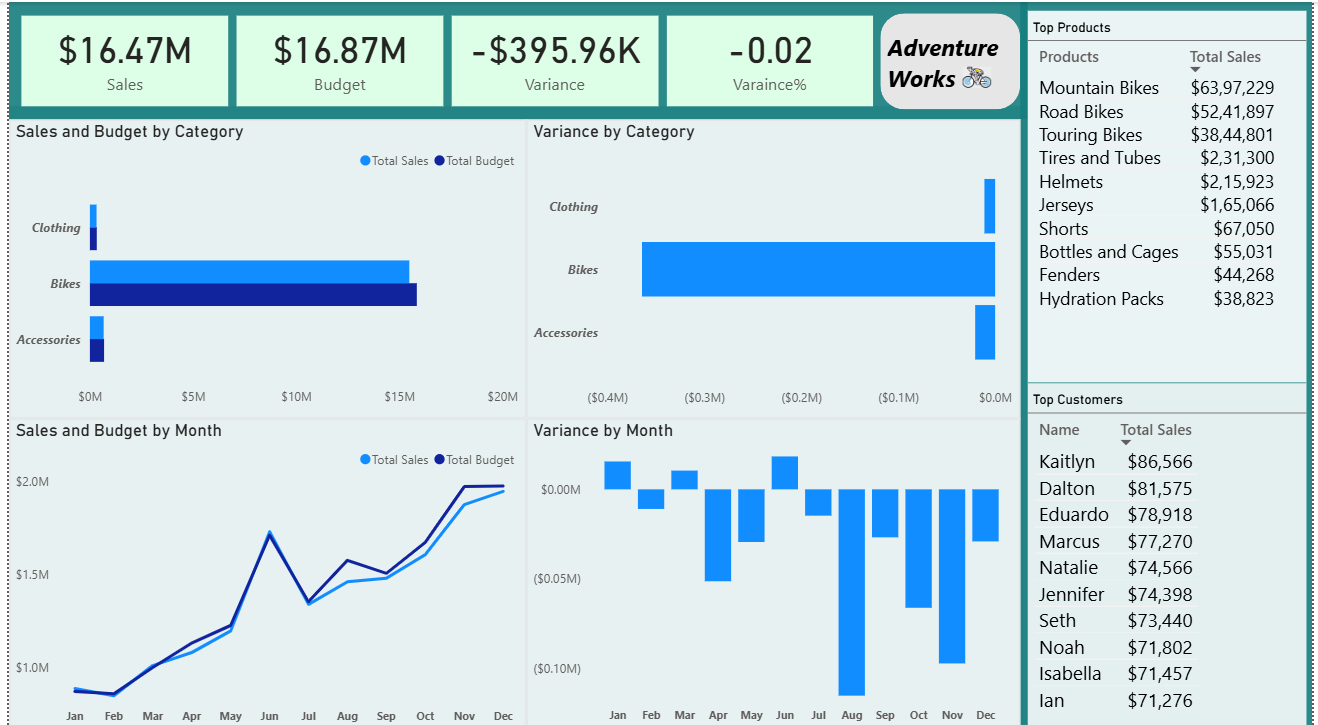

What the dashboard file says about the page in this screenshot:
{"tool":"powerbi","page":{"name":"Page 1","canvas":[1280,720],"ordinal":0},"visuals":[{"type":"shape","box":[0,0,1000,115.3],"z":0},{"type":"shape","box":[992.3,0,287.2,720.5],"z":500},{"type":"shape","box":[0,101.3,1000,619.2],"z":1000},{"type":"cardVisual","fields":{"Data":["Sales.Total Sales","Budget.Total Budget","Budget.Variance","Budget.Varaince%"]},"box":[7.4,8.6,847.9,99.4],"z":2000},{"type":"clusteredBarChart","title":"Sales and Budget by Category","fields":{"Y":["Sales.Total Sales","Budget.Total Budget"],"Category":["Product.Category","Budget.Subcategory"]},"box":[0,115.3,508,293.3],"z":3000},{"type":"clusteredBarChart","title":"Variance by Category","fields":{"Y":["Budget.Variance"],"Category":["Product.Category","Budget.Subcategory"]},"box":[507.7,115.4,484.6,293.6],"z":4000},{"type":"lineChart","title":"Sales and Budget by Month","fields":{"Y":["Sales.Total Sales","Budget.Total Budget"],"Category":["Calendar.Month"]},"box":[0,408.6,508,311.7],"z":5000},{"type":"clusteredColumnChart","title":"Variance by Month","fields":{"Category":["Calendar.Month"],"Y":["Budget.Variance"]},"box":[507.7,409,484.6,311.5],"z":6000},{"type":"tableEx","title":"Top Products","fields":{"Values":["Product.SubCategory","Sales.Total Sales"]},"box":[1000,8.6,273.6,364.4],"z":7000},{"type":"tableEx","title":"Top Customers","fields":{"Values":["Customer.FirstName","Sales.Total Sales"]},"box":[1000,374.2,273.6,338.7],"z":8000},{"type":"shape","box":[855.2,11,137.4,94.5],"z":9000},{"type":"image","box":[931.3,51.5,38,45.4],"z":10000}]}

Visuals, with their boxes in screenshot pixels (x1, y1, x2, y2), scaled from the page's 1280x720 canvas onto the 1318x725 screenshot:
shape: box=[0, 0, 1030, 116]
shape: box=[1022, 0, 1317, 724]
shape: box=[0, 102, 1030, 724]
cardVisual - Sales.Total Sales x Budget.Total Budget: box=[8, 9, 881, 109]
"Sales and Budget by Category" clusteredBarChart: box=[0, 116, 523, 411]
"Variance by Category" clusteredBarChart: box=[523, 116, 1022, 412]
"Sales and Budget by Month" lineChart: box=[0, 411, 523, 724]
"Variance by Month" clusteredColumnChart: box=[523, 412, 1022, 724]
"Top Products" tableEx: box=[1030, 9, 1311, 376]
"Top Customers" tableEx: box=[1030, 377, 1311, 718]
shape: box=[881, 11, 1022, 106]
image: box=[959, 52, 998, 98]
